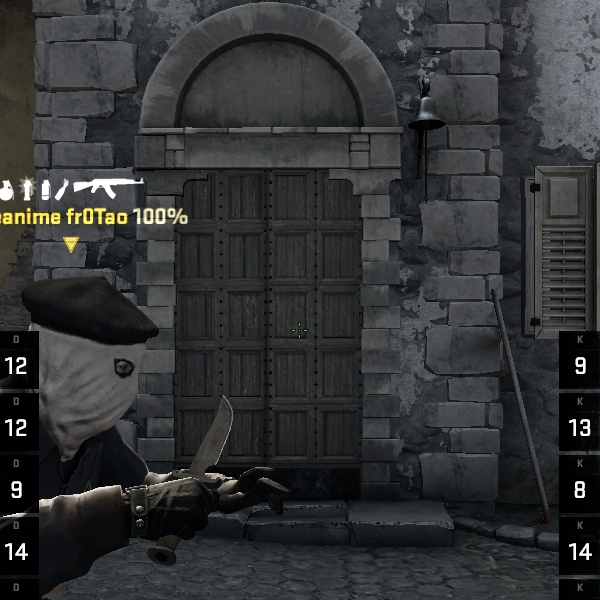ct_head: (12, 275, 162, 434)
